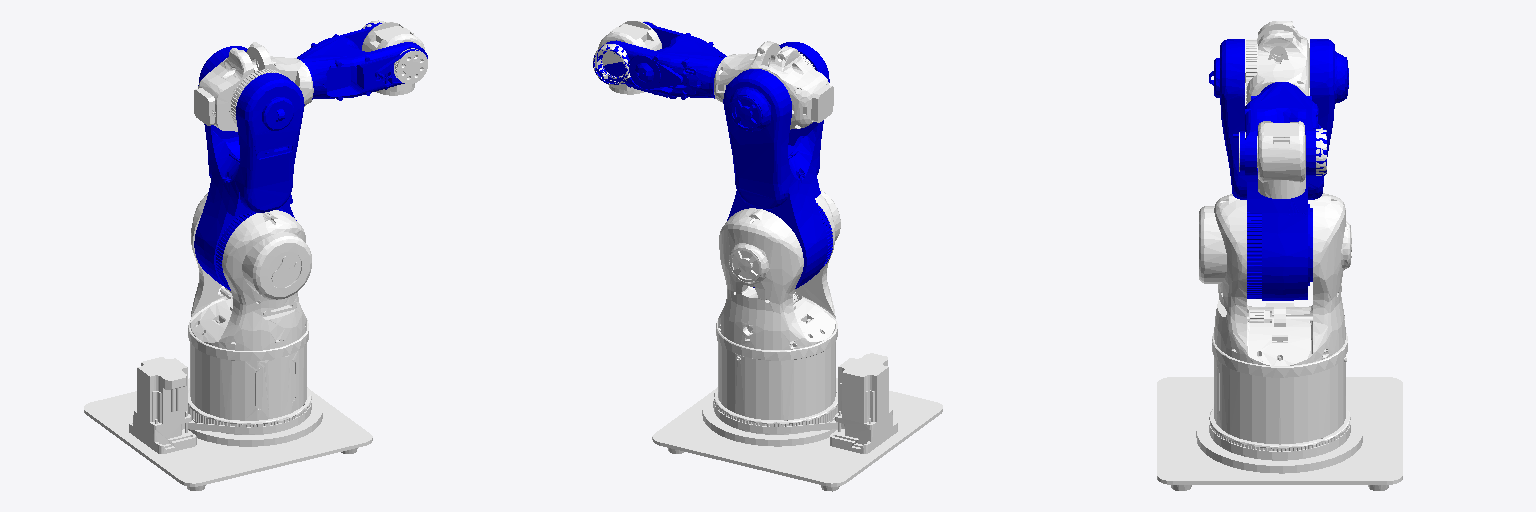
URDF robot description (anno):
<robot name="anno" version="1.0">
<!-- Defining the colors used in this robot -->
  <material name="Black">
    <color rgba="0 0 0 1"/>
  </material>
  <material name="White">
    <color rgba="1 1 1 1"/>
  </material>
  <material name="Blue">
    <color rgba="0 0 1 1"/>
  </material>
  <material name="Red">
    <color rgba="1 0 0 1"/>
  </material>
  <joint name="joint1" type="revolute">
    <limit lower="-3.14000" upper="3.14000" effort="3.00000" velocity="10.00000"/>
    <origin rpy="0.00000 0.00000 0.00000" xyz="0.00000 0.00000 0.00000"/>
    <parent link="base_link"/>
    <child link="link1"/>
    <axis xyz="0.00000 0.00000 1.00000"/>
  </joint>
  <joint name="joint2" type="revolute">
    <limit lower="-2.09000" upper="2.09000" effort="3.00000" velocity="10.00000"/>
    <origin rpy="0.00000 0.00000 0.00000" xyz="0.00000 0.00000 0.23050"/>
    <parent link="link1"/>
    <child link="link2"/>
    <axis xyz="0.00000 1.00000 0.00000"/>
  </joint>
  <joint name="joint3" type="revolute">
    <limit lower="-2.50000" upper="2.50000" effort="3.00000" velocity="0.00000"/>
    <origin rpy="3.14159 1.55981 3.14159" xyz="0.00247 0.00000 0.22499"/>
    <parent link="link2"/>
    <child link="link3"/>
    <axis xyz="0.00000 1.00000 0.00000"/>
  </joint>
  <joint name="joint4" type="revolute">
    <limit lower="-3.14000" upper="3.14000" effort="3.00000" velocity="10.00000"/>
    <origin rpy="0.00000 -0.04088 0.00000" xyz="-0.00086 0.00200 0.02098"/>
    <parent link="link3"/>
    <child link="link4"/>
    <axis xyz="0.00000 0.00000 1.00000"/>
  </joint>
  <joint name="joint5" type="revolute">
    <limit lower="-2.09000" upper="2.09000" effort="3.00000" velocity="10.00000"/>
    <origin rpy="-0.00000 1.57080 0.00000" xyz="-0.00000 0.00000 0.20586"/>
    <parent link="link4"/>
    <child link="link5"/>
    <axis xyz="0.00000 1.00000 0.00000"/>
  </joint>
  <joint name="joint6" type="revolute">
    <limit lower="-3.14000" upper="3.14000" effort="3.00000" velocity="10.00000"/>
    <origin rpy="0.00000 0.02493 0.00000" xyz="0.00105 0.00000 0.04199"/>
    <parent link="link5"/>
    <child link="link6"/>
    <axis xyz="0.00000 0.00000 1.00000"/>
  </joint>
  <link name="link1">
    <collision name="link_1_collision">
      <origin rpy="1.57080 0.00000 0.00000" xyz="0.00000 0.00000 0.06900"/>
      <geometry>
        <box size="0.11984 0.15750 0.13090"/>
      </geometry>
    </collision>
    <inertial>
      <inertia ixx="0.01806" ixy="-0.00001" ixz="0.00001" iyy="0.01598" iyz="0.00004" izz="0.00671"/>
      <origin rpy="0.00000 0.00000 0.00000" xyz="0.00014 0.00466 0.11011"/>
      <mass value="2.10000"/>
    </inertial>
    <visual name="link_1">
      <origin rpy="1.57080 0.00000 0.00000" xyz="0.00000 0.00000 0.00000"/>
      <geometry>
        <mesh filename="package://anno_description/meshes/stl/link_1.stl" scale="1.00000 1.00000 1.00000"/>
      </geometry>
      <material name="White"/>
    </visual>
  </link>
  <link name="link2">
    <collision name="link_2_collision">
      <origin rpy="1.57080 -0.00062 0.00000" xyz="-0.00003 0.00000 0.04600"/>
      <geometry>
        <box size="0.08148 0.17040 0.10248"/>
      </geometry>
    </collision>
    <inertial>
      <inertia ixx="0.01517" ixy="-0.00001" ixz="-0.00002" iyy="0.01396" iyz="-0.00059" izz="0.00318"/>
      <origin rpy="0.00000 0.00000 0.00000" xyz="-0.00037 -0.00263 0.08766"/>
      <mass value="1.70000"/>
    </inertial>
    <visual name="link_2">
      <origin rpy="1.57080 0.01098 0.00000" xyz="0.00000 0.00000 0.00000"/>
      <geometry>
        <mesh filename="package://anno_description/meshes/stl/link_2.stl" scale="1.00000 1.00000 1.00000"/>
      </geometry>
      <material name="Blue"/>
    </visual>
  </link>
  <link name="link3">
    <collision name="link_3_collision">
      <origin rpy="0.00000 -0.04088 0.00000" xyz="0.00104 0.00860 -0.00091"/>
      <geometry>
        <box size="0.09480 0.17820 0.05166"/>
      </geometry>
    </collision>
    <inertial>
      <inertia ixx="0.00095" ixy="0.00006" ixz="-0.00004" iyy="0.00189" iyz="0.00003" izz="0.00174"/>
      <origin rpy="0.00000 0.00000 0.00000" xyz="-0.00468 -0.00082 0.00077"/>
      <mass value="1.00000"/>
    </inertial>
    <visual name="link_3">
      <origin rpy="-1.57080 -1.52992 3.14159" xyz="-0.00000 0.00000 0.00000"/>
      <geometry>
        <mesh filename="package://anno_description/meshes/stl/link_3.stl" scale="1.00000 1.00000 1.00000"/>
      </geometry>
      <material name="White"/>
    </visual>
  </link>
  <link name="link4">
    <collision name="link_4_collision">
      <origin rpy="1.57080 -1.54090 0.00000" xyz="0.00329 0.00000 0.08948"/>
      <geometry>
        <box size="0.14100 0.04557 0.07959"/>
      </geometry>
    </collision>
    <inertial>
      <inertia ixx="0.00118" ixy="-0.00024" ixz="0.00003" iyy="0.00497" iyz="0.00001" izz="0.00557"/>
      <origin rpy="0.00000 0.00000 0.00000" xyz="0.00018 0.00481 0.12735"/>
      <mass value="1.50000"/>
    </inertial>
    <visual name="link_4">
      <origin rpy="1.57080 -1.57080 0.00000" xyz="0.00000 0.00000 0.00000"/>
      <geometry>
        <mesh filename="package://anno_description/meshes/stl/link_4.stl" scale="1.00000 1.00000 1.00000"/>
      </geometry>
      <material name="Blue"/>
    </visual>
  </link>
  <link name="link5">
    <collision name="link_5_collision">
      <origin rpy="-1.57080 -0.10810 3.14159" xyz="0.00018 0.00150 0.00725"/>
      <geometry>
        <box size="0.05236 0.06265 0.13910"/>
      </geometry>
    </collision>
    <inertial>
      <inertia ixx="0.00054" ixy="-0.00000" ixz="-0.00000" iyy="0.00030" iyz="0.00000" izz="0.00049"/>
      <origin rpy="0.00000 0.00000 0.00000" xyz="-0.00031 0.00146 0.00293"/>
      <mass value="0.50000"/>
    </inertial>
    <visual name="link_5">
      <origin rpy="-1.57080 -0.02493 3.14159" xyz="0.00000 0.00000 0.00000"/>
      <geometry>
        <mesh filename="package://anno_description/meshes/stl/link_5.stl" scale="1.00000 1.00000 1.00000"/>
      </geometry>
      <material name="White"/>
    </visual>
  </link>
  <link name="link6">
    <collision name="link_6_collision">
      <origin rpy="-1.57080 0.00000 3.14159" xyz="0.00000 0.00005 0.00650"/>
      <geometry>
        <box size="0.05700 0.00650 0.05685"/>
      </geometry>
    </collision>
    <inertial>
      <inertia ixx="0.00001" ixy="-0.00000" ixz="-0.00000" iyy="0.00001" iyz="-0.00000" izz="0.00002"/>
      <origin rpy="0.00000 0.00000 0.00000" xyz="-0.00001 0.00001 0.00819"/>
      <mass value="0.10000"/>
    </inertial>
    <visual name="link_6">
      <origin rpy="-1.57080 0.00000 -3.14159" xyz="0.00000 0.00000 -0.00000"/>
      <geometry>
        <mesh filename="package://anno_description/meshes/stl/link_6.stl" scale="1.00000 1.00000 1.00000"/>
      </geometry>
      <material name="Blue"/>
    </visual>
  </link>
  <link name="base_link">
    <collision name="base_link_collision">
      <origin rpy="0.00000 0.00000 0.00000" xyz="0.01727 0.00000 -0.04500"/>
      <geometry>
        <box size="0.21000 0.21000 0.01289"/>
      </geometry>
    </collision>
    <!-- <inertial>
      <inertia ixx="0.25462" ixy="-0.00238" ixz="0.04021" iyy="0.36981" iyz="0.00189" izz="0.55944"/>
      <origin rpy="0.00000 0.00000 0.00000" xyz="-0.03770 -0.00031 -0.02402"/>
      <mass value="60.00000"/>
    </inertial> -->
    <visual name="base_link">
      <origin rpy="0.00000 0.00000 0.00000" xyz="0.01727 0.00000 0.00000"/>
      <geometry>
        <mesh filename="package://anno_description/meshes/stl/base_link.stl" scale="1.00000 1.00000 1.00000"/>
      </geometry>
      <material name="White"/>
    </visual>
  </link>
  <transmission name="trans_joint1">
        <type>transmission_interface/SimpleTransmission</type>
        <joint name="joint1">
            <hardwareInterface>hardware_interface/EffortJointInterface</hardwareInterface>
        </joint>
        <actuator name="joint1_motor">
            <hardwareInterface>hardware_interface/EffortJointInterface</hardwareInterface>
            <mechanicalReduction>1</mechanicalReduction>
        </actuator>
    </transmission>
    <transmission name="trans_joint2">
        <type>transmission_interface/SimpleTransmission</type>
        <joint name="joint2">
            <hardwareInterface>hardware_interface/EffortJointInterface</hardwareInterface>
        </joint>
        <actuator name="joint2_motor">
            <hardwareInterface>hardware_interface/EffortJointInterface</hardwareInterface>
            <mechanicalReduction>1</mechanicalReduction>
        </actuator>
    </transmission>
    <transmission name="trans_joint3">
        <type>transmission_interface/SimpleTransmission</type>
        <joint name="joint3">
            <hardwareInterface>hardware_interface/EffortJointInterface</hardwareInterface>
        </joint>
        <actuator name="joint3_motor">
            <hardwareInterface>hardware_interface/EffortJointInterface</hardwareInterface>
            <mechanicalReduction>1</mechanicalReduction>
        </actuator>
    </transmission>
    <transmission name="trans_joint4">
        <type>transmission_interface/SimpleTransmission</type>
        <joint name="joint4">
            <hardwareInterface>hardware_interface/EffortJointInterface</hardwareInterface>
        </joint>
        <actuator name="joint4_motor">
            <hardwareInterface>hardware_interface/EffortJointInterface</hardwareInterface>
            <mechanicalReduction>1</mechanicalReduction>
        </actuator>
    </transmission>
    <transmission name="trans_joint5">
        <type>transmission_interface/SimpleTransmission</type>
        <joint name="joint5">
            <hardwareInterface>hardware_interface/EffortJointInterface</hardwareInterface>
        </joint>
        <actuator name="joint5_motor">
            <hardwareInterface>hardware_interface/EffortJointInterface</hardwareInterface>
            <mechanicalReduction>1</mechanicalReduction>
        </actuator>
    </transmission>
    <transmission name="trans_joint6">
        <type>transmission_interface/SimpleTransmission</type>
        <joint name="joint6">
            <hardwareInterface>hardware_interface/EffortJointInterface</hardwareInterface>
        </joint>
        <actuator name="joint6_motor">
            <hardwareInterface>hardware_interface/EffortJointInterface</hardwareInterface>
            <mechanicalReduction>1</mechanicalReduction>
        </actuator>
    </transmission>
    <gazebo>
        <plugin name="gazebo_ros_control" filename="libgazebo_ros_control.so">
            <robotNamespace>/</robotNamespace>
        </plugin>
    </gazebo>
</robot>

--- Render facts (derived) ---
The picture shows the robot from 3 angles, left to right: view 1: azimuth 30°, elevation 25°; view 2: azimuth 150°, elevation 25°; view 3: azimuth 270°, elevation 25°; orthographic projection.
Robot: anno — 7 links, 6 joints (6 revolute); root link base_link; default pose: every joint at zero.
Links seen in each view (by area): view 1: link1, base_link, link2, link4, link3, link5; view 2: link1, base_link, link2, link4, link3, link5; view 3: link1, base_link, link2, link5, link4, link3.
Boxes of the visible links, bbox=[...] form: link1: bbox=[188, 193, 311, 434]; base_link: bbox=[84, 357, 372, 490]; link2: bbox=[194, 46, 304, 290]; link4: bbox=[297, 22, 427, 100]; link3: bbox=[194, 42, 313, 131]; link5: bbox=[362, 20, 427, 95]; link1: bbox=[714, 190, 840, 434]; base_link: bbox=[652, 353, 942, 491]; link2: bbox=[723, 42, 832, 288]; link4: bbox=[593, 22, 726, 99]; link3: bbox=[714, 41, 833, 129]; link5: bbox=[593, 21, 661, 94]; link1: bbox=[1199, 193, 1351, 460]; base_link: bbox=[1157, 303, 1402, 490]; link2: bbox=[1209, 39, 1348, 300]; link5: bbox=[1239, 121, 1326, 198]; link4: bbox=[1233, 82, 1326, 175]; link3: bbox=[1245, 21, 1309, 104].
Bounding box of the posed robot: 0.4492 × 0.3 × 0.5774 m (x, y, z).
7 mesh visuals loaded from 7 distinct referenced files (7 binary STL).